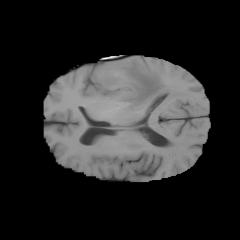glioma: (92, 60, 171, 109)
